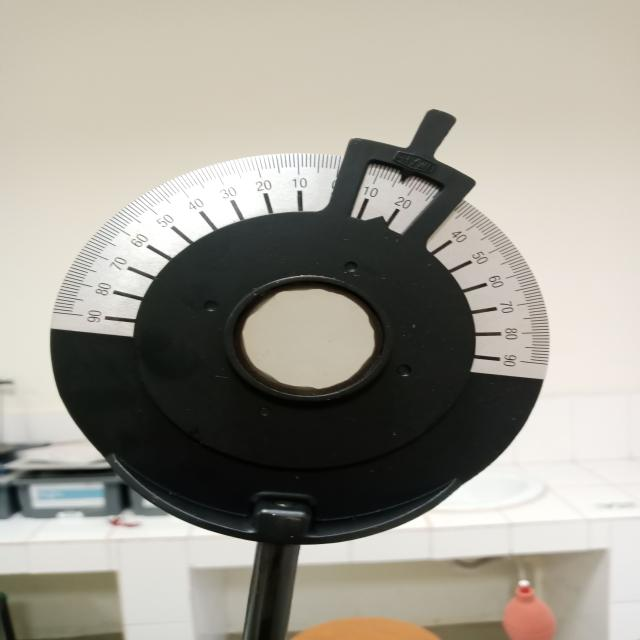Optical Polarizer: (34, 89, 576, 625)
